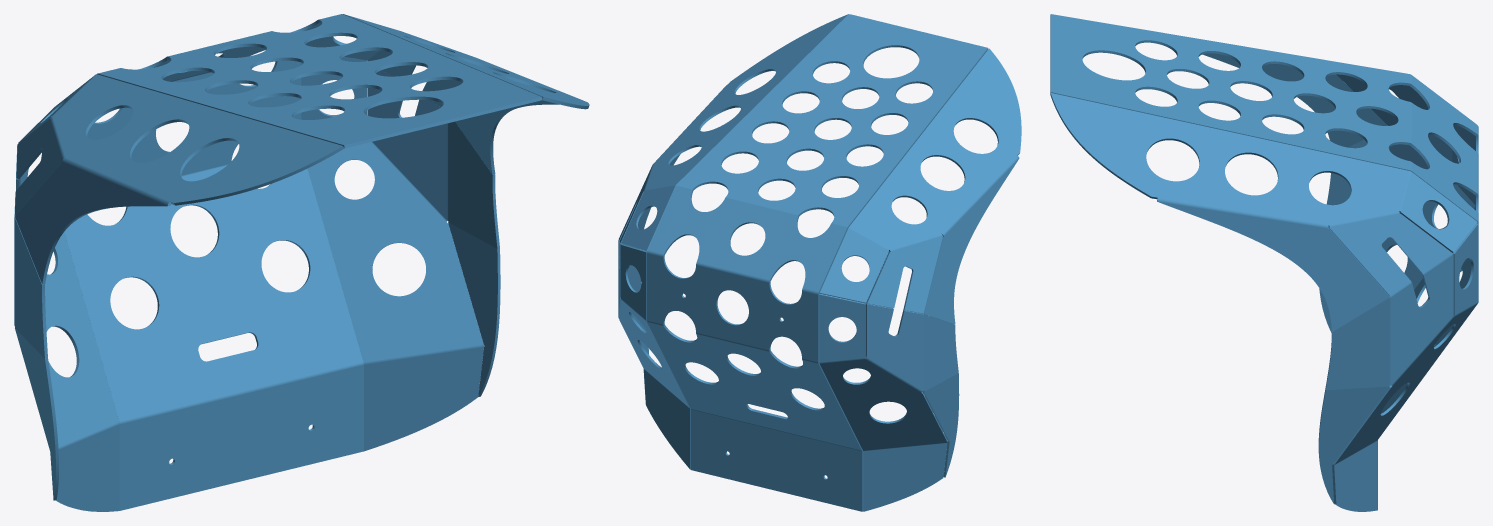
File: baja_seat.gltf
The picture shows the model from 3 angles, left to right: view 1: azimuth 30°, elevation 25°; view 2: azimuth 150°, elevation 25°; view 3: azimuth 270°, elevation 25°; orthographic projection. The views are drawn at different scales.
Visible parts, largest first — view 1: Part 5, Part 2, Part 3, Part 4, Part 1; view 2: Part 5, Part 3, Part 4, Part 1, Part 2; view 3: Part 1, Part 5, Part 2, Part 3, Part 4.
Part boxes in pixels (x1,y1,x2,y2): Part 5: [64, 14, 542, 510]; Part 2: [301, 56, 500, 451]; Part 3: [14, 74, 344, 284]; Part 4: [14, 146, 119, 511]; Part 1: [307, 14, 589, 174]; Part 5: [647, 14, 988, 511]; Part 3: [819, 48, 1021, 324]; Part 4: [819, 293, 959, 511]; Part 1: [618, 14, 848, 251]; Part 2: [618, 240, 690, 469]; Part 1: [1050, 93, 1477, 331]; Part 5: [1050, 14, 1478, 509]; Part 2: [1318, 223, 1478, 511]; Part 3: [1050, 14, 1475, 147]; Part 4: [1319, 124, 1475, 332].
Size of the model in its own units: 0.4971 by 0.5298 by 0.5034.
